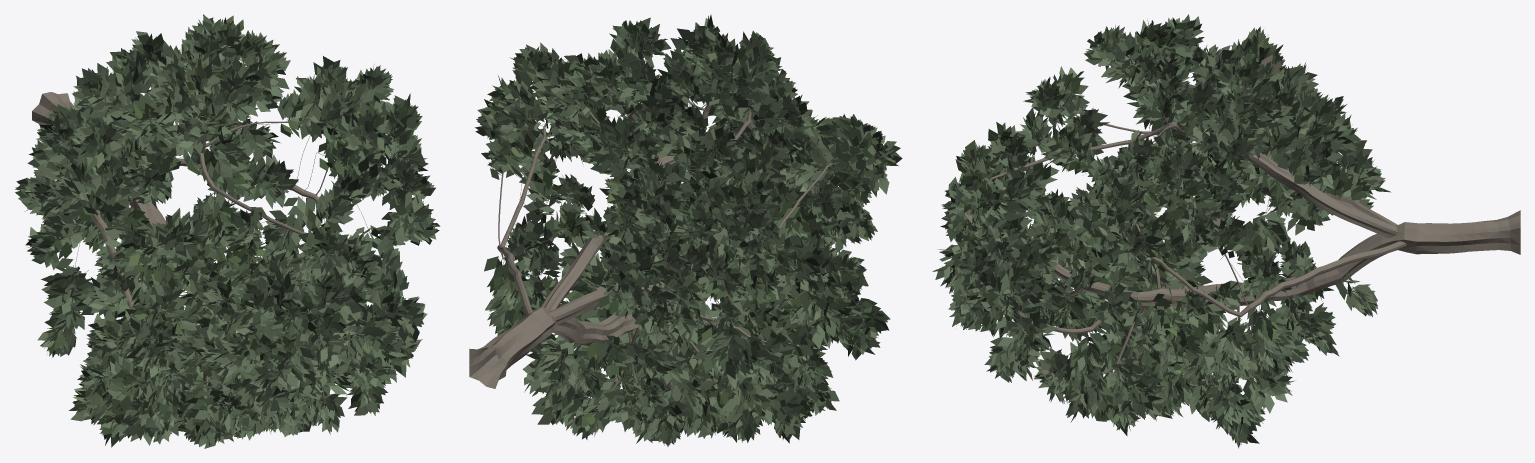
File: tree_near_11.obj
3 views of the same model, side by side, from view 1: azimuth 30°, elevation 25°; view 2: azimuth 150°, elevation 25°; view 3: azimuth 270°, elevation 25° (orthographic). The views are drawn at different scales.
Parts seen in each view (by area): view 1: tree_near_11; view 2: tree_near_11; view 3: tree_near_11.
Part boxes in pixels (x1,y1,x2,y2): tree_near_11: (15, 14, 440, 448); tree_near_11: (469, 15, 902, 446); tree_near_11: (932, 14, 1520, 448).
Bounding box in the file's own units: 0.681 × 0.723 × 0.9958.
Materials: 1 (1 with a texture image).
